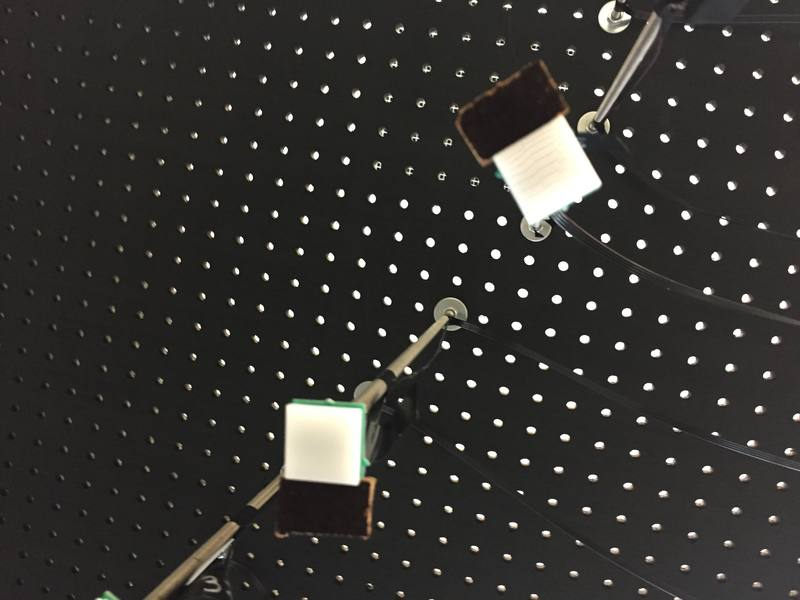target: (493, 119, 600, 224), (280, 401, 370, 491)
